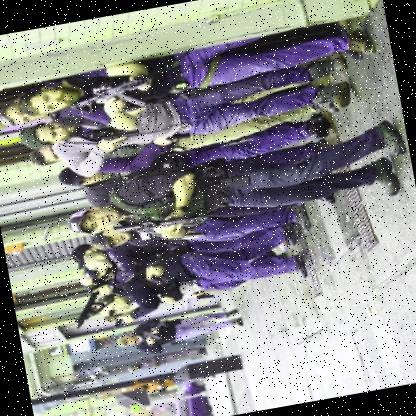rifle: (74, 72, 153, 120), (65, 283, 110, 330), (148, 208, 210, 236), (136, 318, 167, 345), (100, 127, 137, 147)
